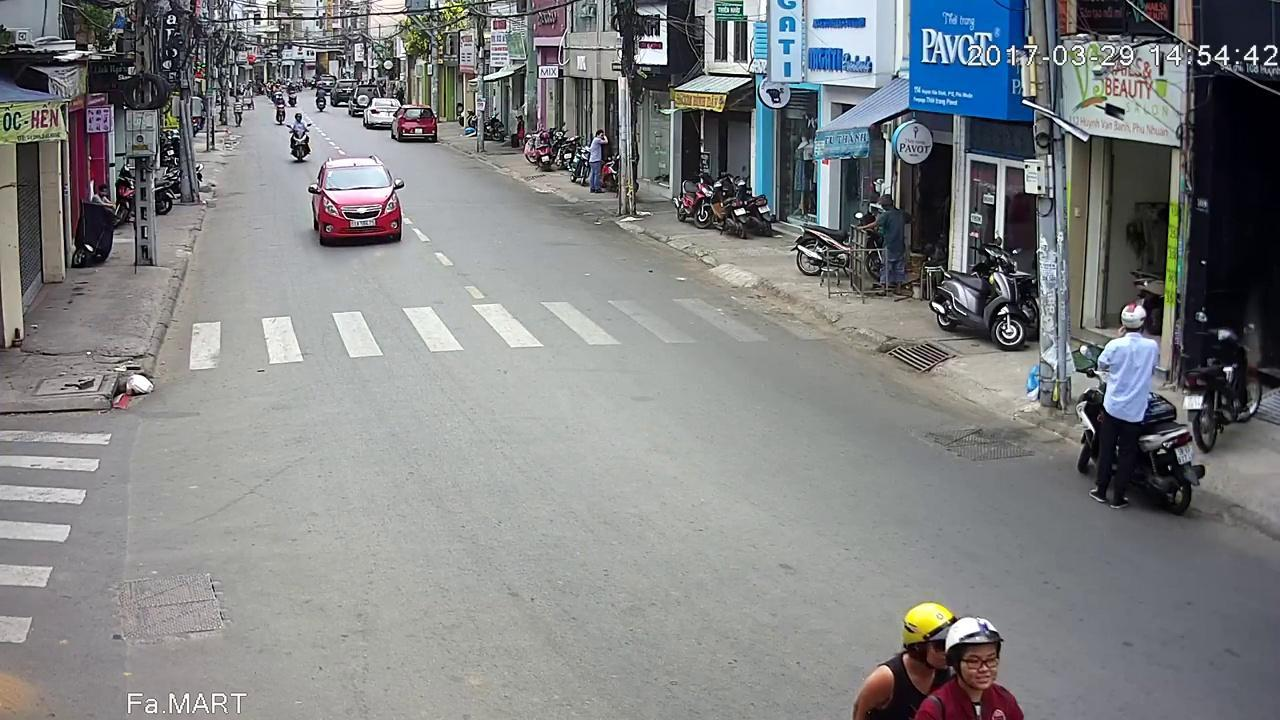xe hoi: (304, 158, 404, 252), (392, 104, 439, 142)
xe may: (286, 111, 313, 162)
